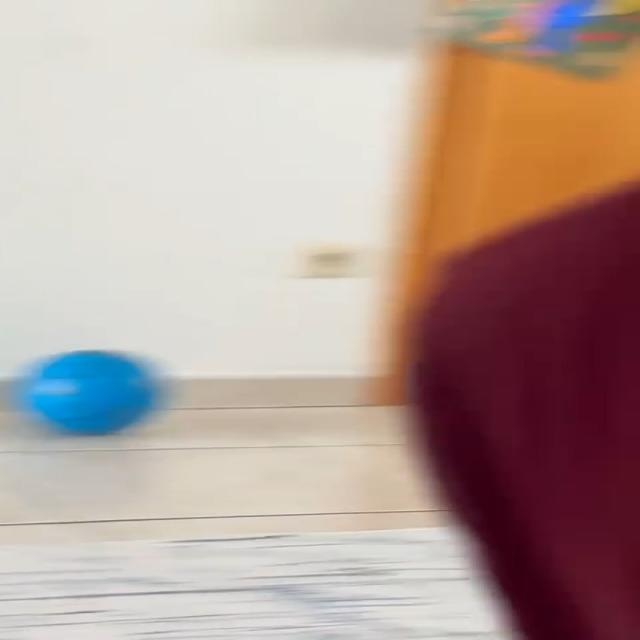authorized: (402, 177, 638, 638)
